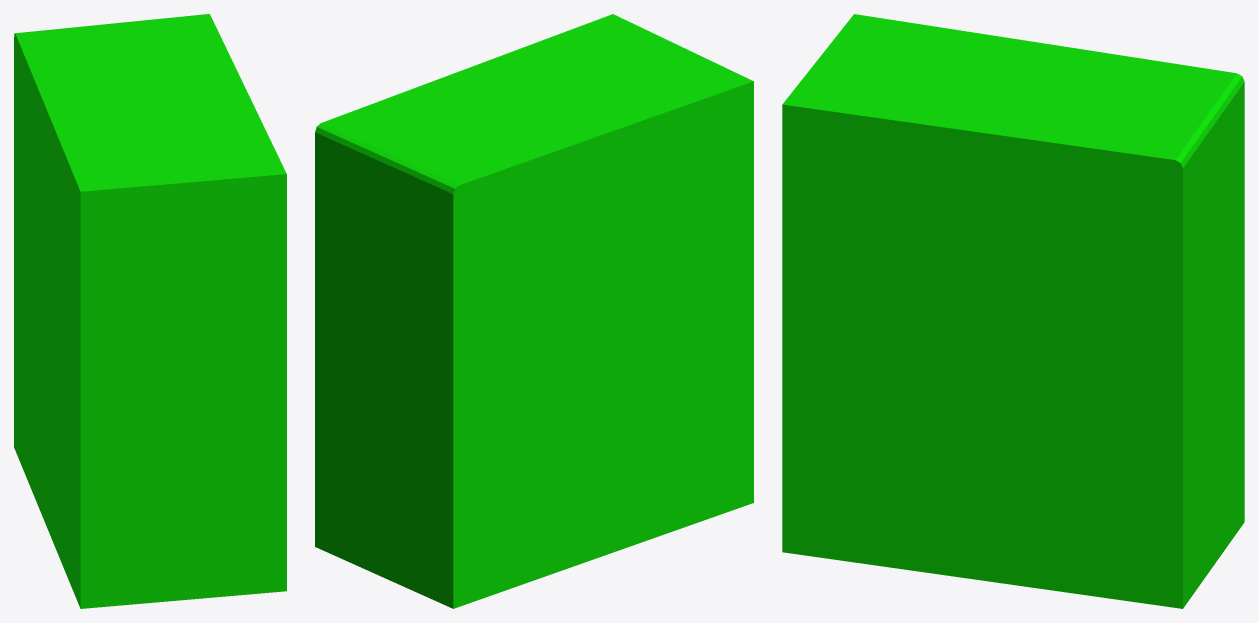
File: sm_collider_010.fbx
3 views of the same model, side by side, from view 1: azimuth 30°, elevation 25°; view 2: azimuth 150°, elevation 25°; view 3: azimuth 270°, elevation 25° (orthographic). The views are drawn at different scales.
Visible parts, largest first — view 1: sm_collider.010; view 2: sm_collider.010; view 3: sm_collider.010.
Part boxes in pixels (bbox=[...]): sm_collider.010: bbox=[14, 14, 286, 608]; sm_collider.010: bbox=[315, 14, 753, 608]; sm_collider.010: bbox=[782, 14, 1244, 608].
Bounding box in the file's own units: 1318 × 1869 × 1749.
